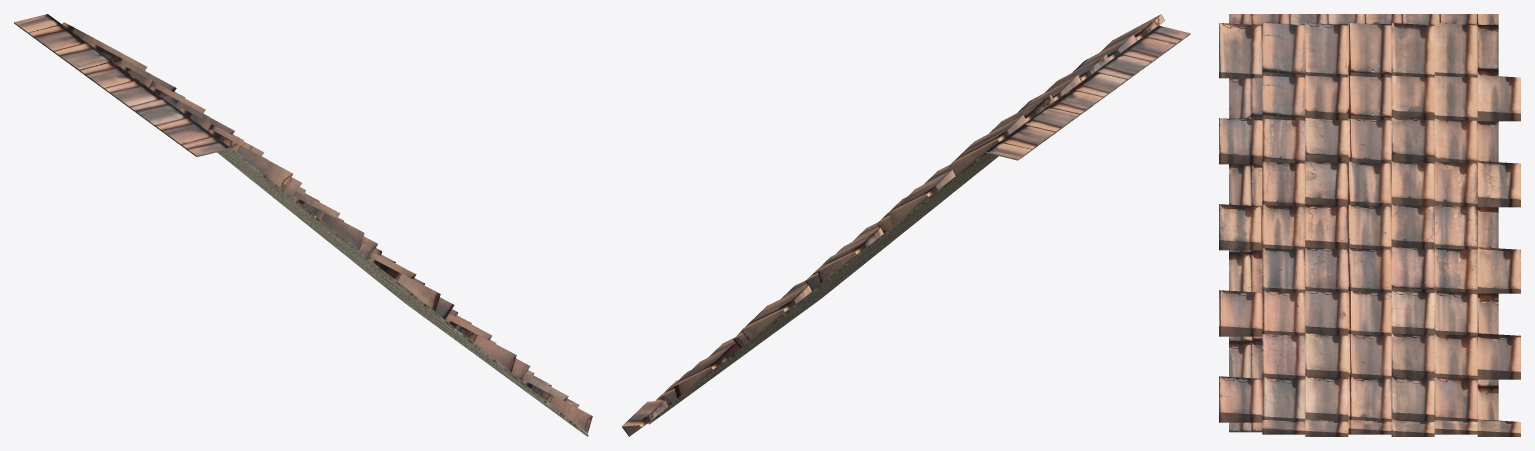
Rendered from ShingleA.fbx.
The picture shows the model from 3 angles, left to right: view 1: azimuth 30°, elevation 25°; view 2: azimuth 150°, elevation 25°; view 3: azimuth 270°, elevation 25°; orthographic projection. The views are drawn at different scales.
Parts seen in each view (by area): view 1: ShingleA, ShingleA_LOD; view 2: ShingleA, ShingleA_LOD; view 3: ShingleA, ShingleA_LOD.
Boxes of the visible parts, x1,y1,x2,y2 form: ShingleA: (14,14,592,436); ShingleA_LOD: (15,16,584,434); ShingleA: (621,14,1189,436); ShingleA_LOD: (811,25,1190,294); ShingleA: (1219,14,1520,436); ShingleA_LOD: (1229,14,1497,431).
Bounding box in the file's own units: 520 × 471 × 453.
